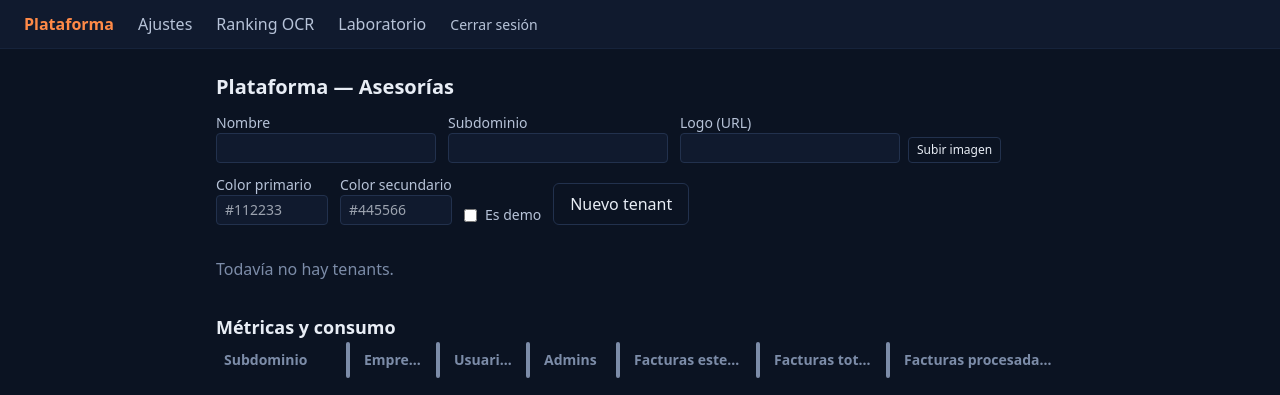
Test case: AppRoutes (S4.9) › S4.10 C8: admin-tech sí ve "Ajustes" en el menú y puede entrar
This screenshot has width=1280, height=395.
Expected: the heading "Plataforma — Asesorías" is shown, [216,73,454,100]
Click the link "Ajustes" at (165, 24), box [138,13,192,35]
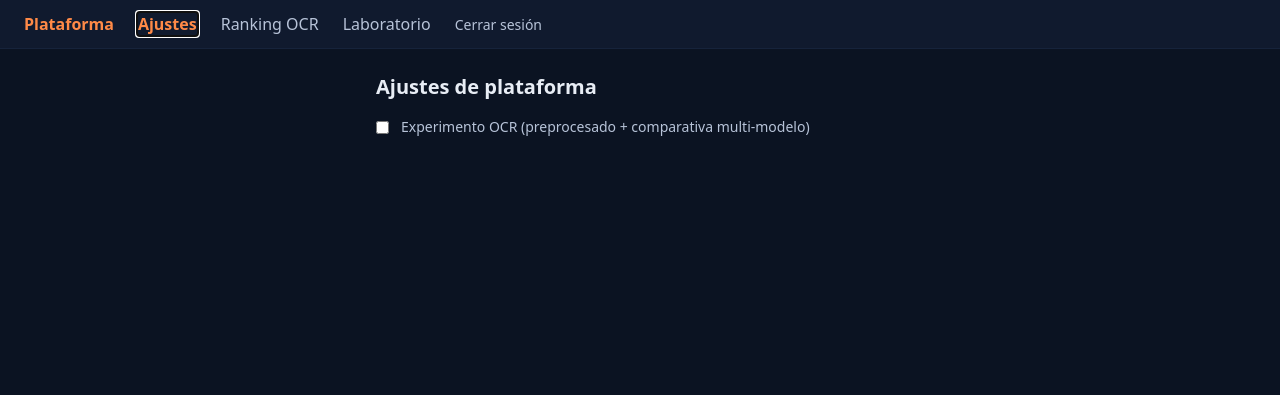
Now the heading "Ajustes de plataforma" is shown, box [376,73,597,100]
